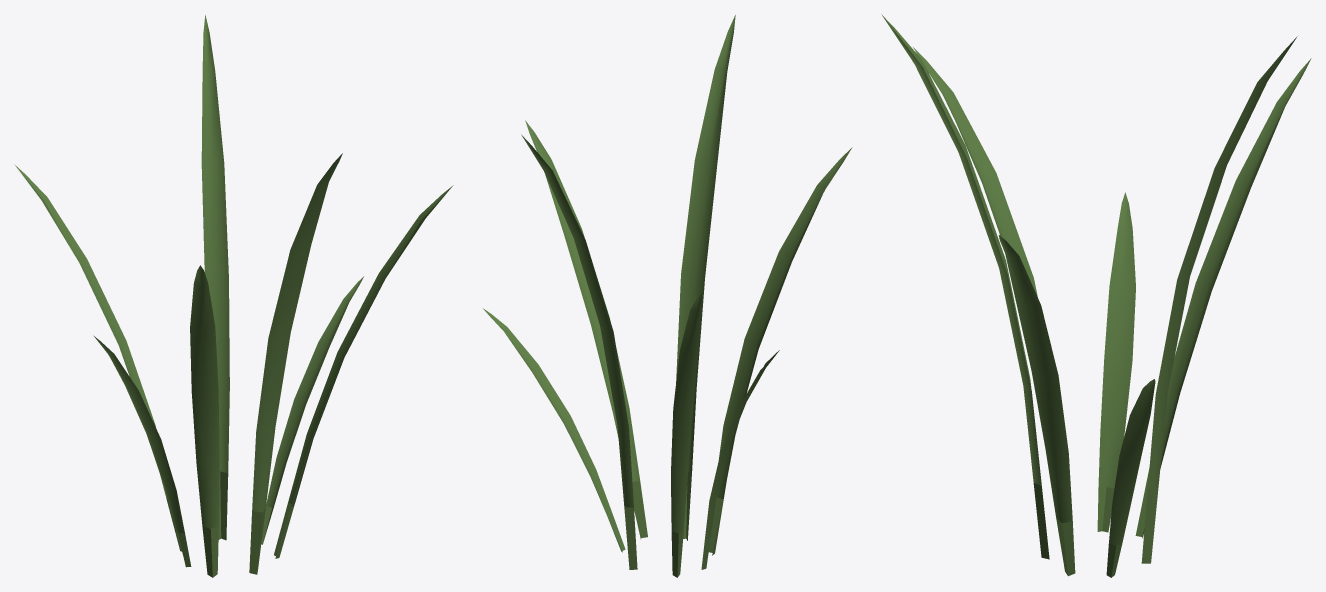
The model's file is Seagrass_01.fbx.
The picture shows the model from 3 angles, left to right: view 1: azimuth 30°, elevation 25°; view 2: azimuth 150°, elevation 25°; view 3: azimuth 270°, elevation 25°; orthographic projection. The views are drawn at different scales.
Parts seen in each view (by area): view 1: Seagrass1; view 2: Seagrass1; view 3: Seagrass1.
Part boxes in pixels (x1,y1,x2,y2): Seagrass1: [14, 15, 453, 577]; Seagrass1: [483, 15, 852, 577]; Seagrass1: [881, 14, 1311, 577].
Size of the model in its own units: 466 by 677 by 477.
